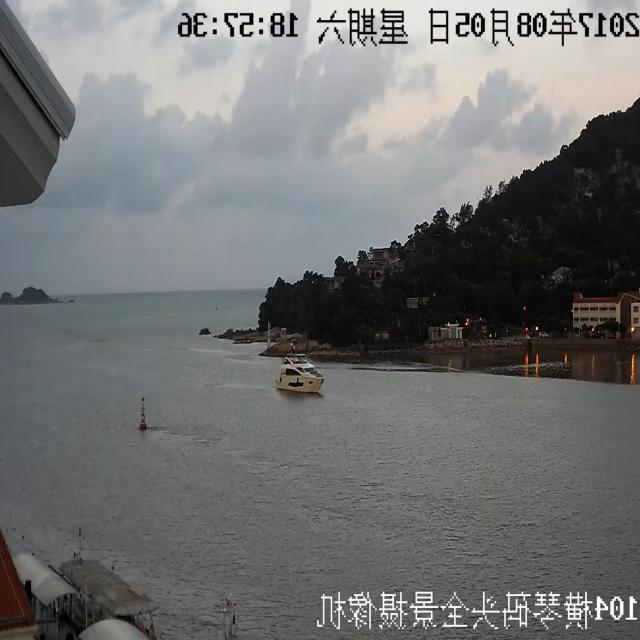buoy: (129, 393, 149, 434)
passenger ship: (276, 340, 330, 391)
reef: (0, 265, 60, 311)
